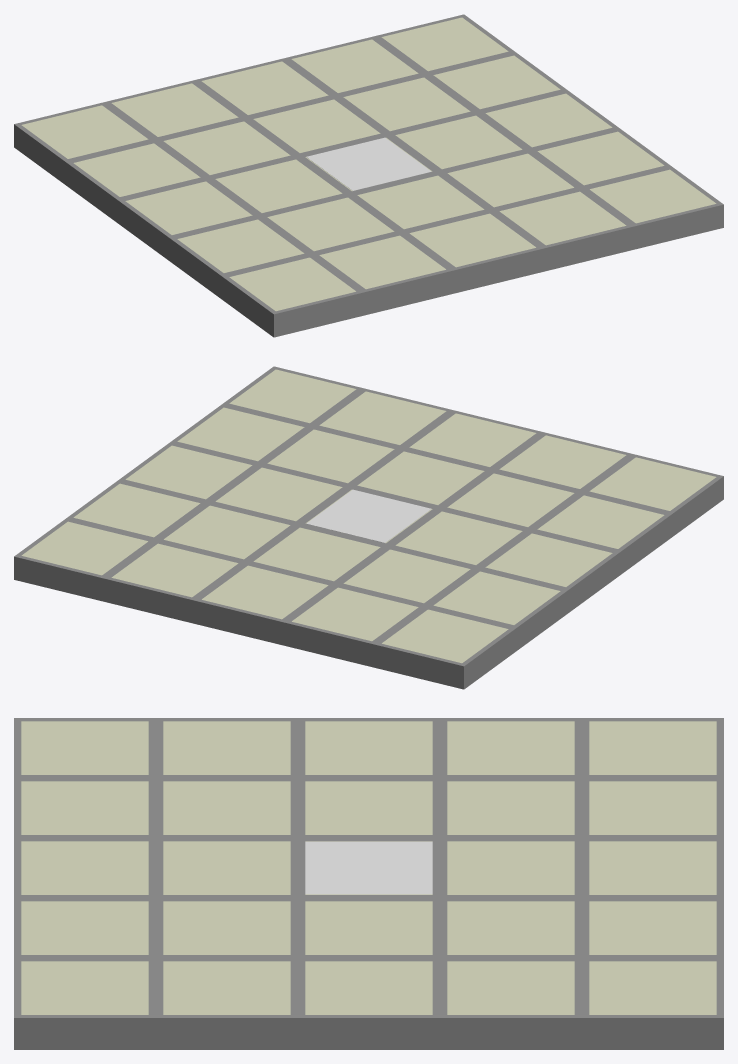
Rendered from ceiling.fbx.
3 views of the same model, one above another, from view 1: azimuth 30°, elevation 25°; view 2: azimuth 150°, elevation 25°; view 3: azimuth 270°, elevation 25° (orthographic). The views are drawn at different scales.
Visible parts, largest first — view 1: Plane, Cube; view 2: Plane, Cube; view 3: Plane, Cube.
Boxes of the visible parts, x1=… form: Plane: x1=14, y1=14, x2=723, y2=337; Cube: x1=306, y1=137, x2=431, y2=190; Plane: x1=14, y1=366, x2=723, y2=689; Cube: x1=306, y1=489, x2=431, y2=542; Plane: x1=14, y1=718, x2=723, y2=1049; Cube: x1=305, y1=841, x2=432, y2=894.
Size of the model in its own units: 200 by 9.93 by 200.
